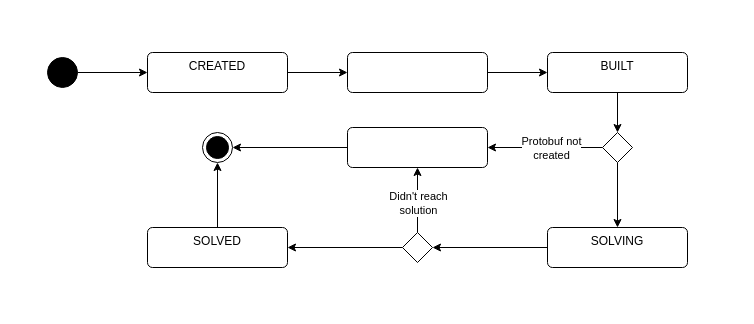
Some shapes in this 754 by 324 pixel diagram are drawn without their labels. Each missing label, with the centre of its shape:
BUILDING: (x=417, y=72)
FAILED: (x=417, y=147)
